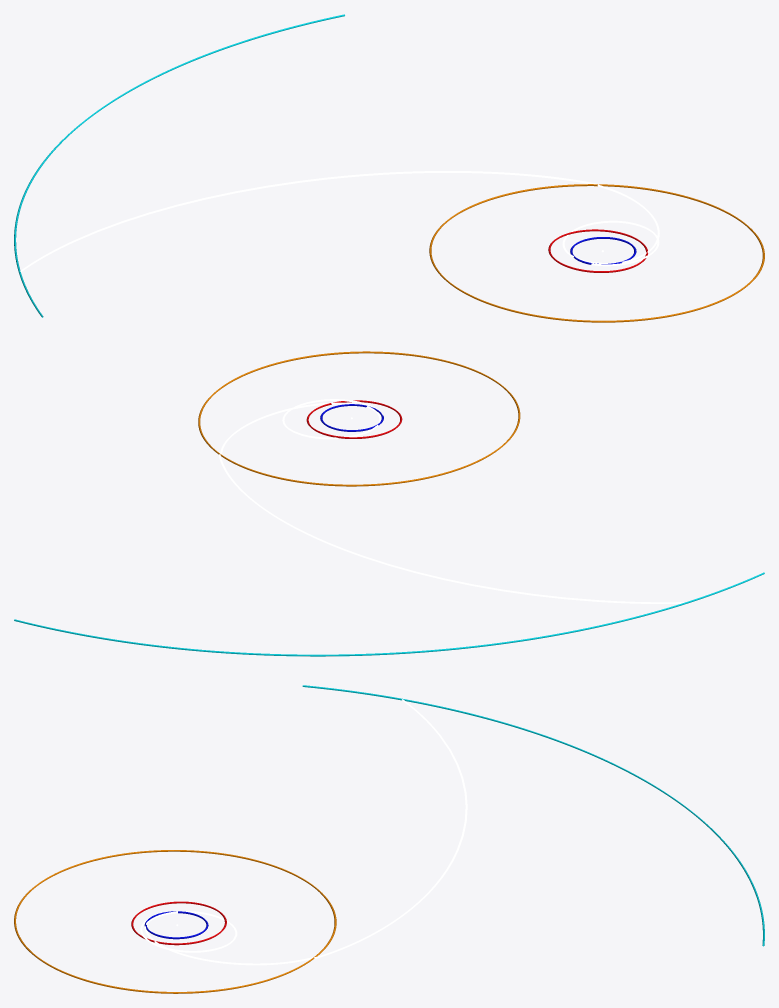
The model's file is ClaudiusOrbitv2.glb.
3 views of the same model, one above another, from view 1: azimuth 30°, elevation 25°; view 2: azimuth 150°, elevation 25°; view 3: azimuth 270°, elevation 25° (orthographic). The views are drawn at different scales.
Parts seen in each view (by area): view 1: Claudius Trajectory, Jupiter Trajectory, Uranus Trajectory, Mars Trajectory; view 2: Claudius Trajectory, Uranus Trajectory, Jupiter Trajectory; view 3: Jupiter Trajectory, Claudius Trajectory, Uranus Trajectory.
Boxes of the visible parts, x1,y1,x2,y2 form: Claudius Trajectory: [20, 171, 659, 271]; Jupiter Trajectory: [429, 184, 764, 322]; Uranus Trajectory: [14, 14, 344, 317]; Mars Trajectory: [548, 229, 647, 272]; Claudius Trajectory: [219, 399, 685, 603]; Uranus Trajectory: [14, 572, 764, 656]; Jupiter Trajectory: [198, 351, 520, 486]; Jupiter Trajectory: [14, 850, 336, 993]; Claudius Trajectory: [140, 699, 467, 965]; Uranus Trajectory: [302, 685, 764, 946].
Size of the model in its own units: 3418 by 63.7 by 3644.
